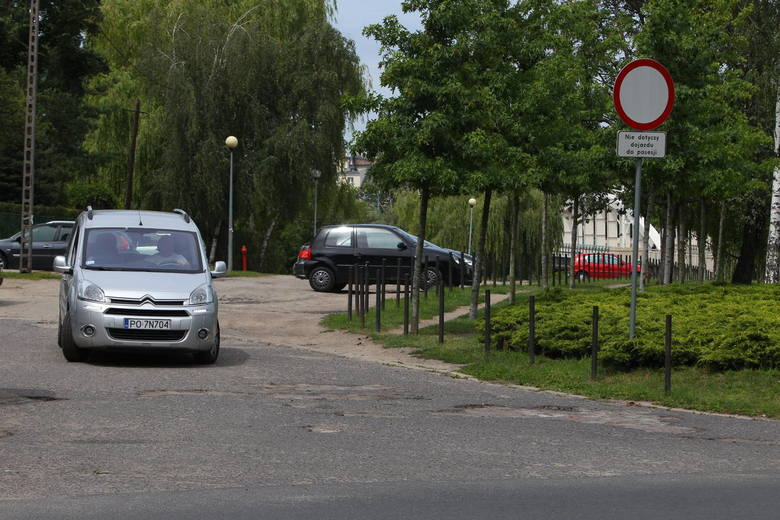no_entry_sign: (615, 58, 674, 129)
